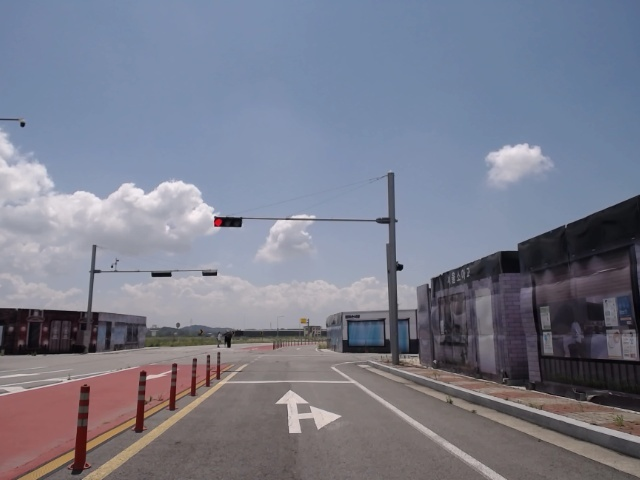red_3: (213, 217, 242, 228)
